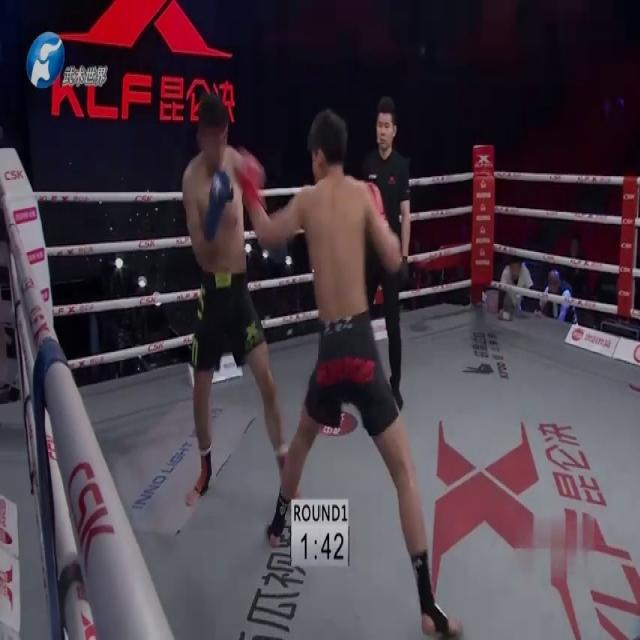fight: (170, 80, 450, 639)
non-fight: (348, 93, 414, 416)
